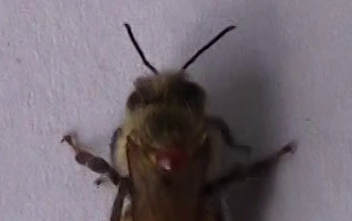Varroa destructor: (151, 139, 191, 174)
